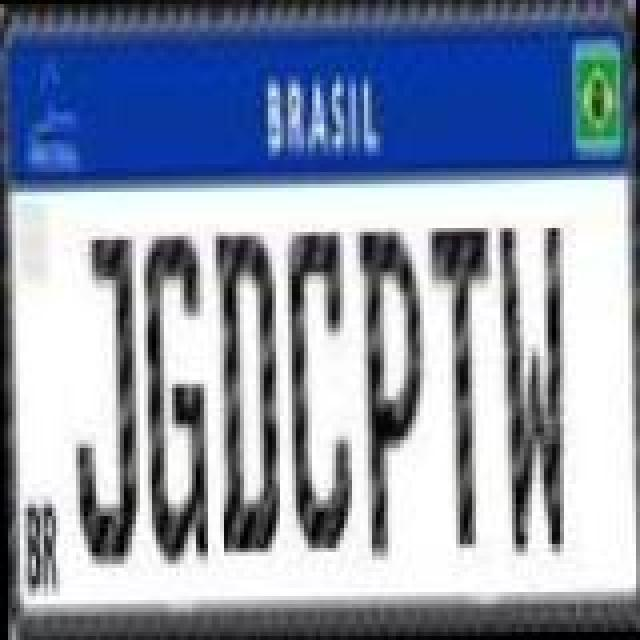C: (286, 222, 354, 558)
D: (216, 230, 280, 554)
G: (142, 232, 210, 568)
J: (74, 236, 142, 572)
P: (358, 228, 426, 564)
T: (428, 226, 492, 550)
W: (498, 224, 566, 560)
